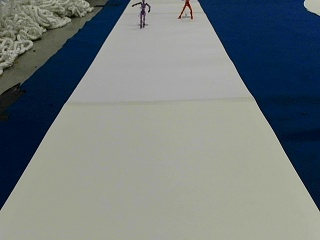pedestrian: (131, 0, 149, 27), (177, 0, 194, 19)
